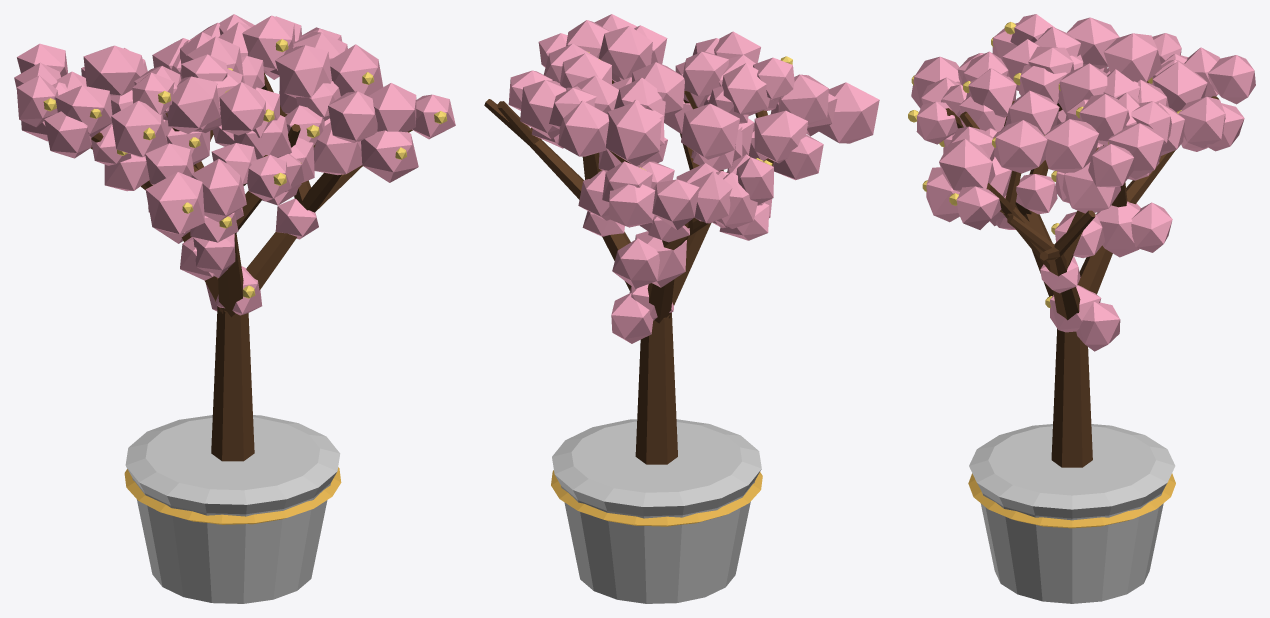
The model's file is ev_peach_blossom_v01.glb.
3 renders of one model, left to right at view 1: azimuth 30°, elevation 25°; view 2: azimuth 150°, elevation 25°; view 3: azimuth 270°, elevation 25°, orthographic. The views are drawn at different scales.
Parts seen in each view (by area): view 1: ev_peach_blossom; view 2: ev_peach_blossom; view 3: ev_peach_blossom.
Part boxes in pixels (<box>): ev_peach_blossom: <box>14,14,455,603</box>; ev_peach_blossom: <box>484,14,879,603</box>; ev_peach_blossom: <box>908,14,1255,603</box>.
Bounding box in the file's own units: 1.24 × 1.75 × 1.08.
